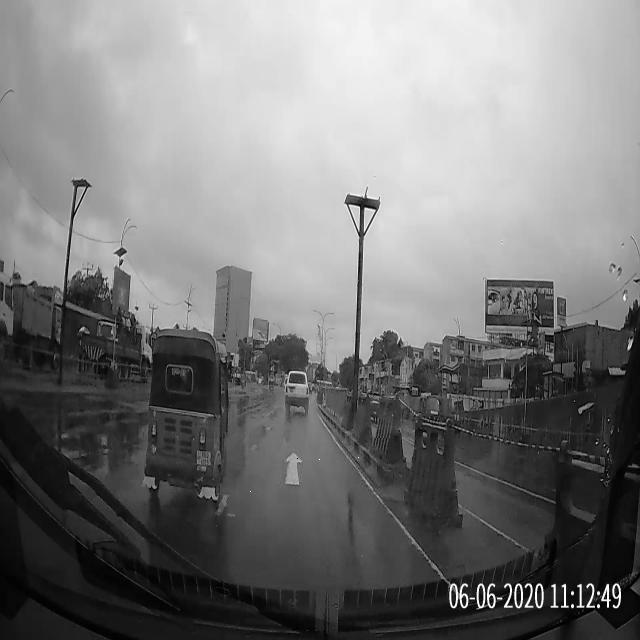forward: (223, 438, 392, 503)
